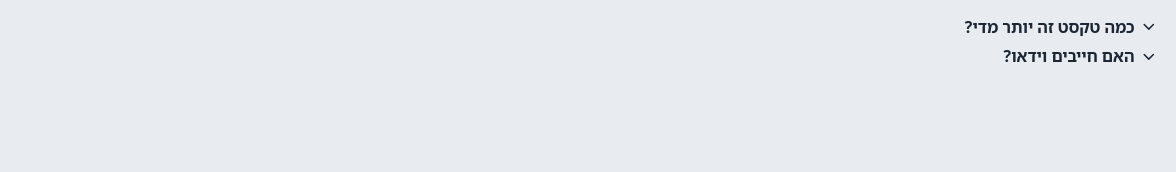
Test case: AccordionRenderer › במצב single פתיחת פריט סוגרת את האחר
The width and height of the screenshot is (1176, 172).
What coordinates should you click on to do the following:
click the button "כמה טקסט זה יותר מדי?"
I would click on:
 (1050, 27)
Its box is [12, 12, 1164, 42].
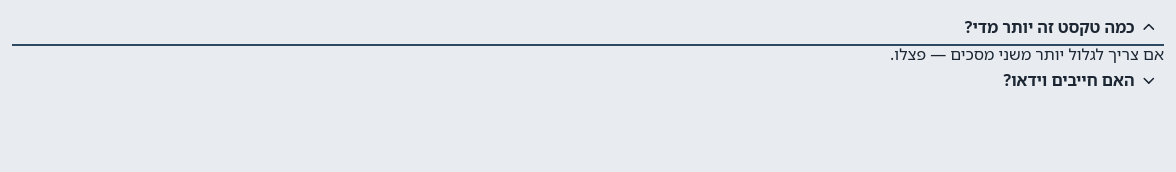
What coordinates should you click on to do the following:
click the button "האם חייבים וידאו?"
I would click on:
 (1069, 80)
Its box is [12, 66, 1164, 95].
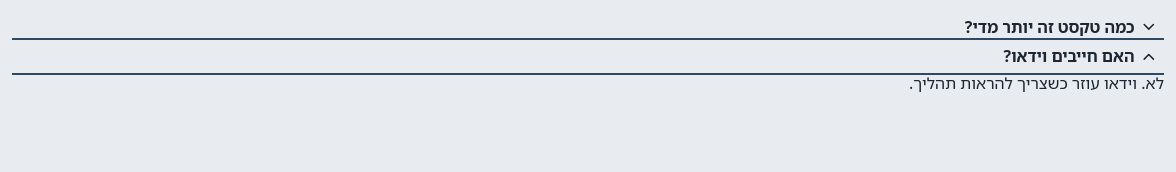
Check: the button "כמה טקסט זה יותר מדי?" is collapsed, box [12, 12, 1164, 42]
Check: the button "האם חייבים וידאו?" is expanded, box [12, 42, 1164, 71]
